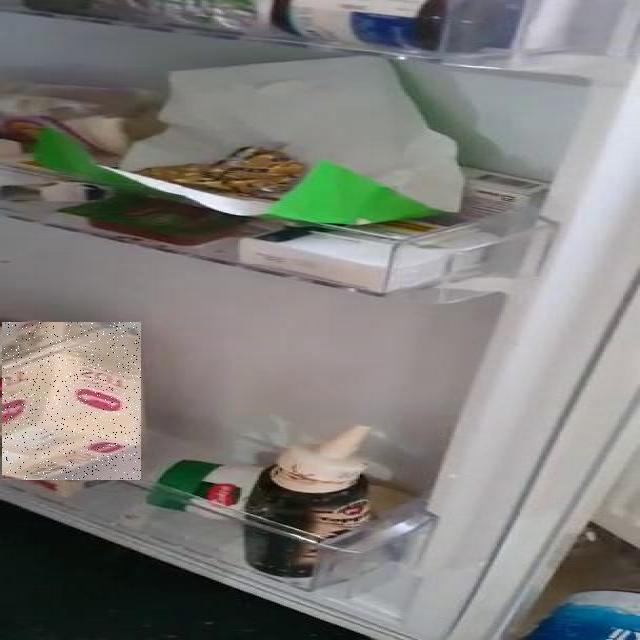Milk: (2, 322, 141, 480)
